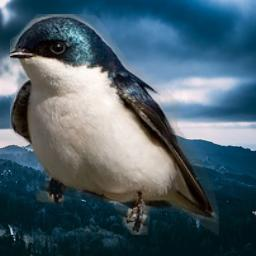Swallow: (10, 14, 219, 235)
